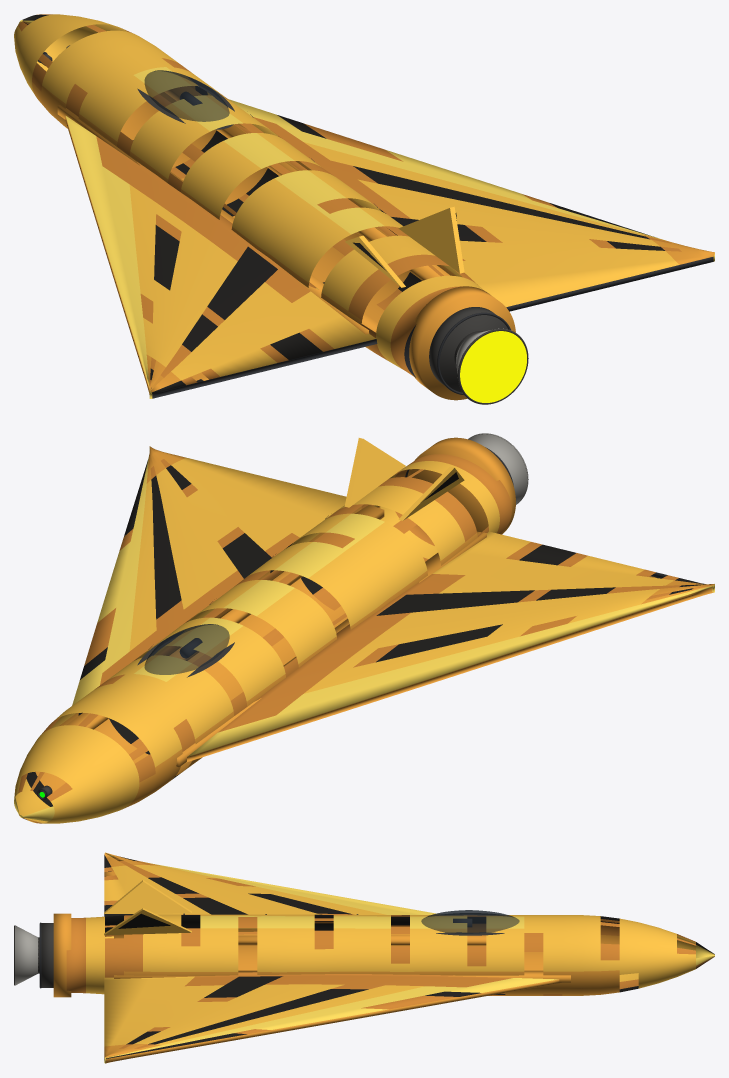
The model's file is Ship_TigerWing_8.glb.
3 renders of one model, top to bottom at view 1: azimuth 30°, elevation 25°; view 2: azimuth 150°, elevation 25°; view 3: azimuth 270°, elevation 25°, orthographic. The views are drawn at different scales.
Visible parts, largest first — view 1: Fuselage_OrganicEllipsoidTaperedBody_BakedPaint, Wing_Left_LongDeltaAerofoil_BakedPaint, Wing_Right_LongDeltaAerofoil_BakedPaint, EngineEmitter, AftCollar_IntegratedSingleEngineBand, CanopyGlass_LowInsetDome, EngineBlock_AftDarkSingleEngineHousing, TailFin_Right_CantedStabilizer, WingRoot_Right_EmbeddedShoulder, WingRoot_Left_EmbeddedShoulder, TailFin_Left_CantedStabilizer; view 2: Fuselage_OrganicEllipsoidTaperedBody_BakedPaint, Wing_Left_LongDeltaAerofoil_BakedPaint, Wing_Right_LongDeltaAerofoil_BakedPaint, AftCollar_IntegratedSingleEngineBand, CanopyGlass_LowInsetDome, TailFin_Right_CantedStabilizer, EngineBell_Center_BroadBurnishedNozzle, WingRoot_Right_EmbeddedShoulder, WingRoot_Left_EmbeddedShoulder, TailFin_Left_CantedStabilizer; view 3: Fuselage_OrganicEllipsoidTaperedBody_BakedPaint, Wing_Right_LongDeltaAerofoil_BakedPaint, Wing_Left_LongDeltaAerofoil_BakedPaint, CanopyGlass_LowInsetDome, TailFin_Left_CantedStabilizer, AftCollar_IntegratedSingleEngineBand, EngineBell_Center_BroadBurnishedNozzle, TailFin_Right_CantedStabilizer, EngineBlock_AftDarkSingleEngineHousing, WingRoot_Right_EmbeddedShoulder, WingRoot_Left_EmbeddedShoulder, TailFin_Right_BakedTrimPatch.
Part boxes in pixels (x1,y1,x2,y2): Fuselage_OrganicEllipsoidTaperedBody_BakedPaint: [14, 14, 482, 377]; Wing_Left_LongDeltaAerofoil_BakedPaint: [65, 116, 377, 398]; Wing_Right_LongDeltaAerofoil_BakedPaint: [228, 99, 714, 311]; EngineEmitter: [460, 331, 526, 402]; AftCollar_IntegratedSingleEngineBand: [409, 286, 515, 400]; CanopyGlass_LowInsetDome: [144, 70, 229, 121]; EngineBlock_AftDarkSingleEngineHousing: [429, 307, 508, 392]; TailFin_Right_CantedStabilizer: [398, 206, 464, 273]; WingRoot_Right_EmbeddedShoulder: [165, 86, 449, 280]; WingRoot_Left_EmbeddedShoulder: [57, 105, 377, 334]; TailFin_Left_CantedStabilizer: [345, 235, 405, 287]; Fuselage_OrganicEllipsoidTaperedBody_BakedPaint: [14, 454, 511, 823]; Wing_Left_LongDeltaAerofoil_BakedPaint: [186, 531, 714, 762]; Wing_Right_LongDeltaAerofoil_BakedPaint: [72, 446, 380, 705]; AftCollar_IntegratedSingleEngineBand: [407, 437, 515, 534]; CanopyGlass_LowInsetDome: [144, 624, 229, 674]; TailFin_Right_CantedStabilizer: [344, 438, 405, 507]; EngineBell_Center_BroadBurnishedNozzle: [468, 433, 528, 504]; WingRoot_Right_EmbeddedShoulder: [66, 504, 384, 729]; WingRoot_Left_EmbeddedShoulder: [176, 531, 486, 767]; TailFin_Left_CantedStabilizer: [398, 466, 464, 520]; Fuselage_OrganicEllipsoidTaperedBody_BakedPaint: [66, 914, 714, 995]; Wing_Right_LongDeltaAerofoil_BakedPaint: [104, 972, 561, 1063]; Wing_Left_LongDeltaAerofoil_BakedPaint: [104, 852, 484, 938]; CanopyGlass_LowInsetDome: [421, 910, 519, 933]; TailFin_Left_CantedStabilizer: [104, 880, 191, 913]; AftCollar_IntegratedSingleEngineBand: [53, 913, 71, 997]; EngineBell_Center_BroadBurnishedNozzle: [15, 925, 38, 985]; TailFin_Right_CantedStabilizer: [104, 908, 191, 935]; EngineBlock_AftDarkSingleEngineHousing: [41, 923, 53, 987]; WingRoot_Right_EmbeddedShoulder: [114, 970, 570, 982]; WingRoot_Left_EmbeddedShoulder: [114, 934, 486, 945]; TailFin_Right_BakedTrimPatch: [118, 913, 170, 928].
Bounding box in the file's own units: 5.41 × 1.25 × 7.83.
